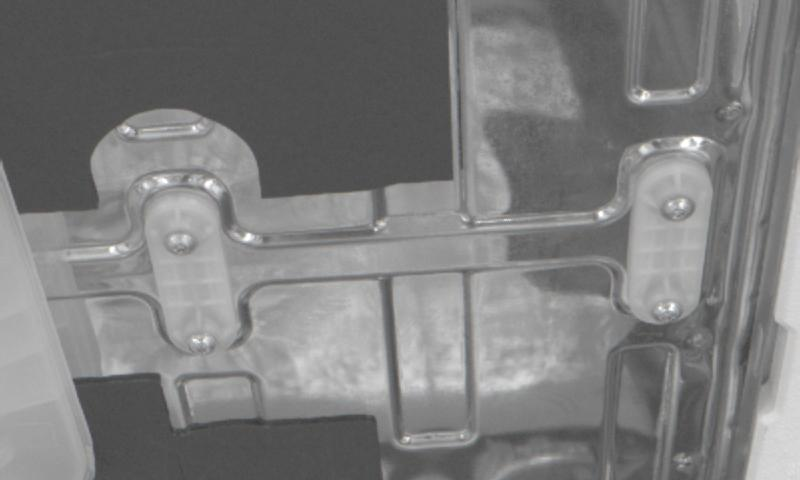vida-ok: (158, 223, 208, 269), (638, 291, 684, 332), (181, 320, 229, 359), (657, 188, 698, 232)
